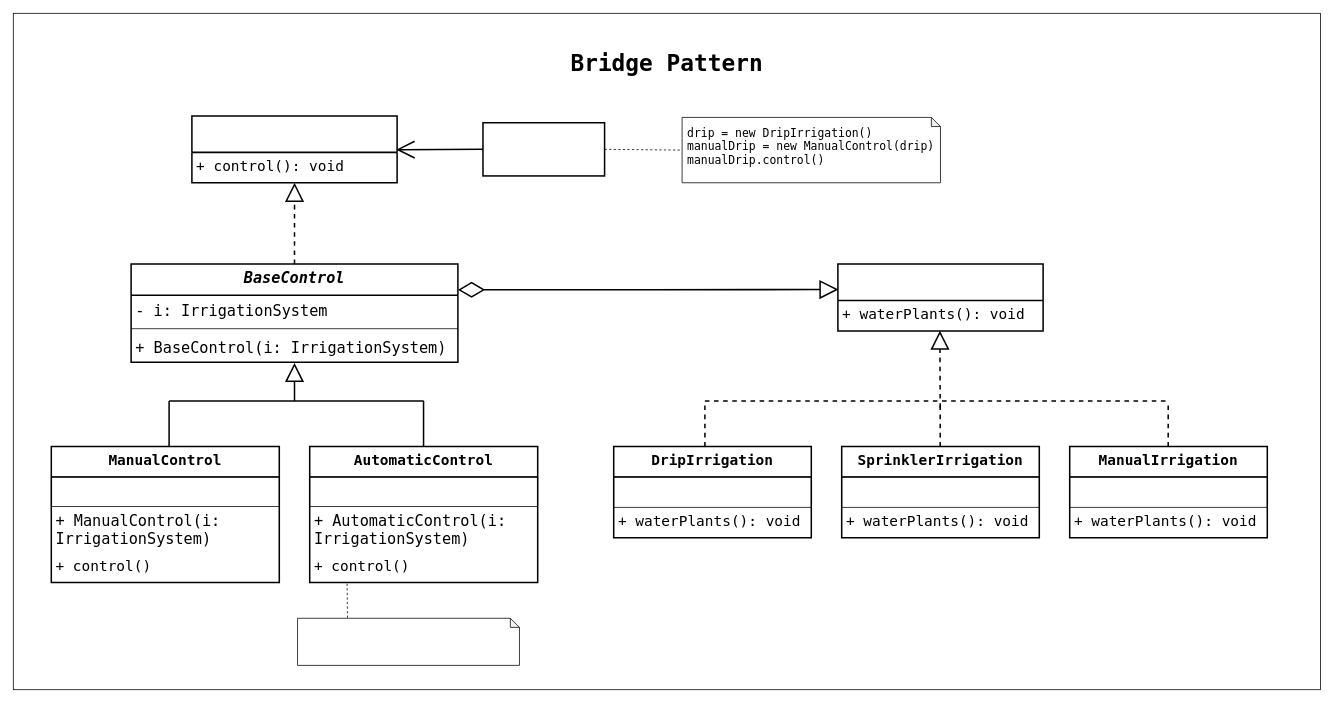
Some shapes in this 1334 by 703 pixel diagram are drawn without their labels. Each missing label, with the box of its shape:
<<interface>> ControlSystem: (191, 115, 397, 183)
<<interface>> IrrigationSystem: (837, 263, 1043, 331)
Client: (482, 122, 605, 176)
print ("Automatic Control") i.waterPlants(): (297, 618, 519, 665)
